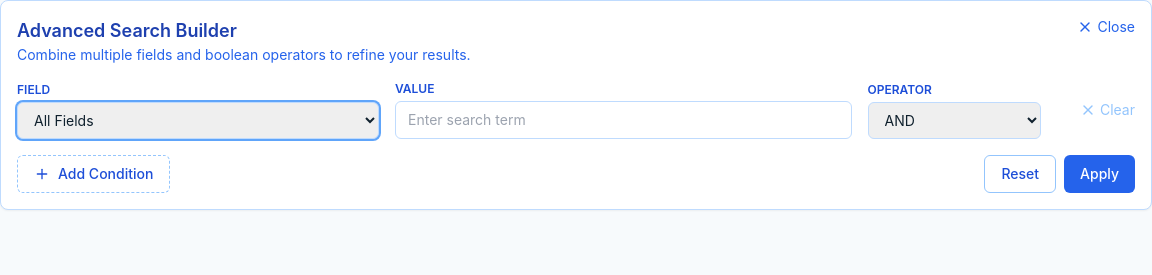
Scenario: AdvancedSearchBuilder › loads and selects facet suggestions for facetable fields
Select "Place" in the dropdown labelled "Field" at (198, 120), box [17,102,379,138]
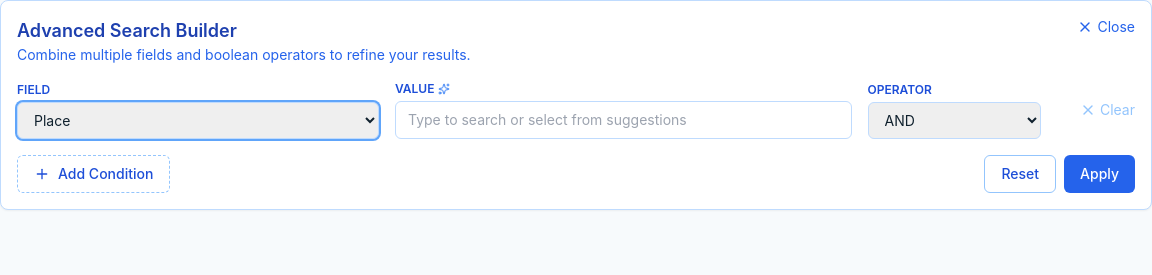
Click the field labelled "Value" at (623, 120), box [395,101,852,139]
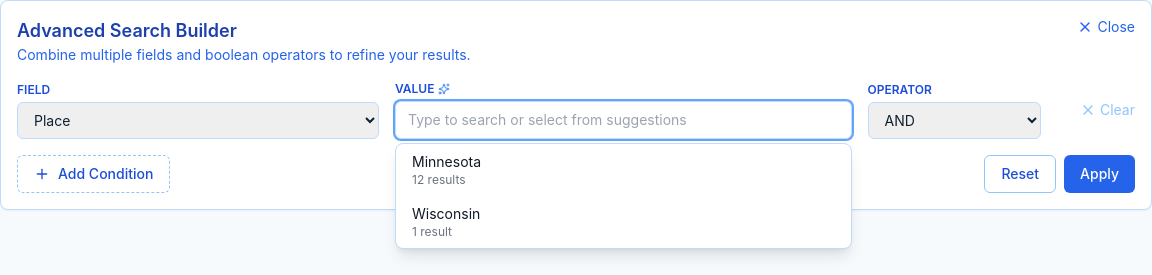
Result: the text "Minnesota" is shown at [412,153,481,170]
Result: the text "12 results" is shown at [412,172,466,187]
Result: the text "1 result" is shown at [412,224,452,239]
Press Arrowdown Enter
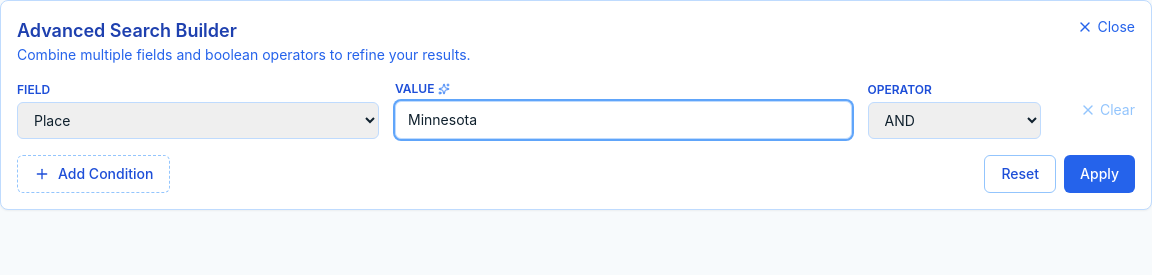
Result: the field labelled "Value" holds "Minnesota" at [395,101,852,139]
Result: the button "Wisconsin" is gone
